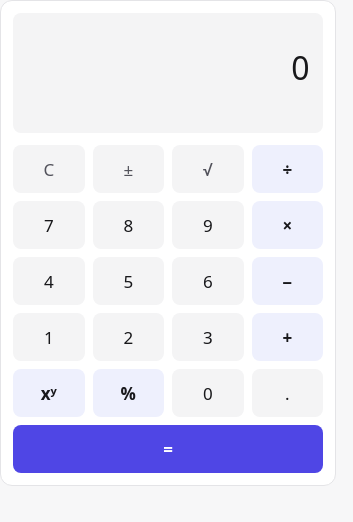
Test: Calculator keys without a request › refuses to calculate when the second operand is missing
Click the button named "Five" at (128, 281), box x1=92 y1=257 x2=164 y2=305
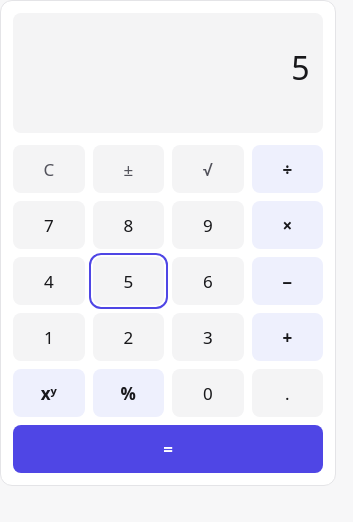
Click the button named "Add" at (287, 337), box x1=252 y1=313 x2=323 y2=361
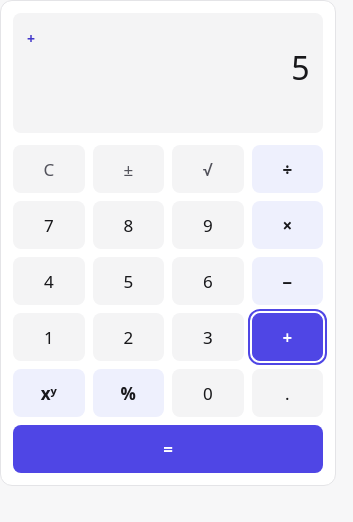
Click the button named "Equals" at (168, 449), box x1=13 y1=425 x2=323 y2=473
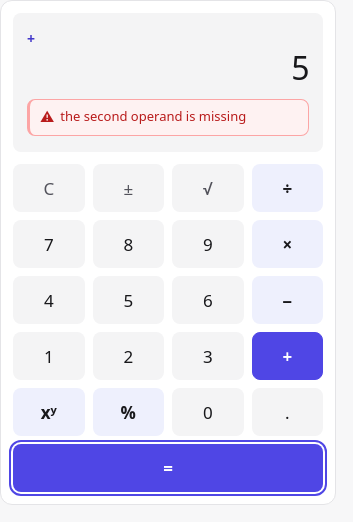
Result: the message shows "second operand" at x1=60 y1=107 x2=246 y2=125
